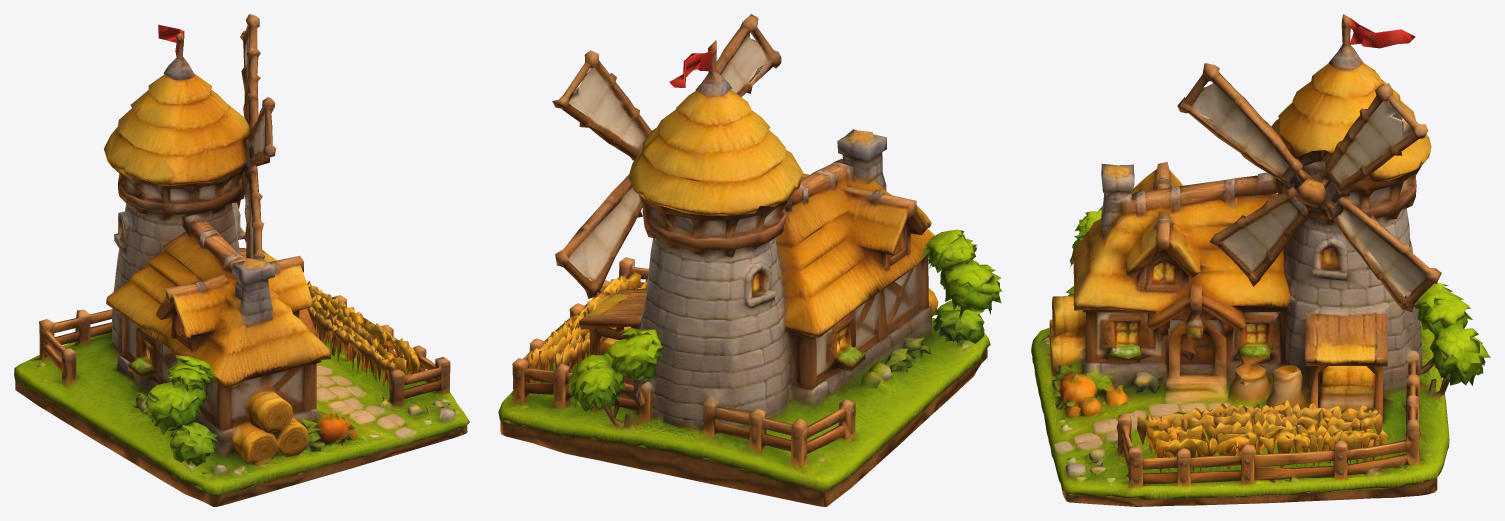
Rendered from farm.glb.
The picture shows the model from 3 angles, left to right: view 1: azimuth 30°, elevation 25°; view 2: azimuth 150°, elevation 25°; view 3: azimuth 270°, elevation 25°; orthographic projection. The views are drawn at different scales.
Visible parts, largest first — view 1: tripo_node_0c70f6e1-6b28-4b2a-954f-d065d9e31322; view 2: tripo_node_0c70f6e1-6b28-4b2a-954f-d065d9e31322; view 3: tripo_node_0c70f6e1-6b28-4b2a-954f-d065d9e31322.
Boxes of the visible parts, <box> form: tripo_node_0c70f6e1-6b28-4b2a-954f-d065d9e31322: <box>14,14,469,506</box>; tripo_node_0c70f6e1-6b28-4b2a-954f-d065d9e31322: <box>498,14,1002,506</box>; tripo_node_0c70f6e1-6b28-4b2a-954f-d065d9e31322: <box>1031,14,1490,506</box>.
Size of the model in its own units: 0.9067 by 0.9534 by 1.
1 material, 1 textured.
